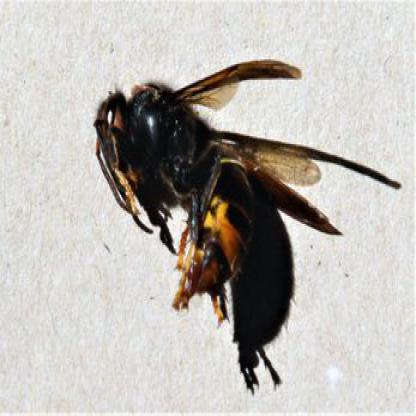Asian Hornet: (65, 30, 300, 316)
